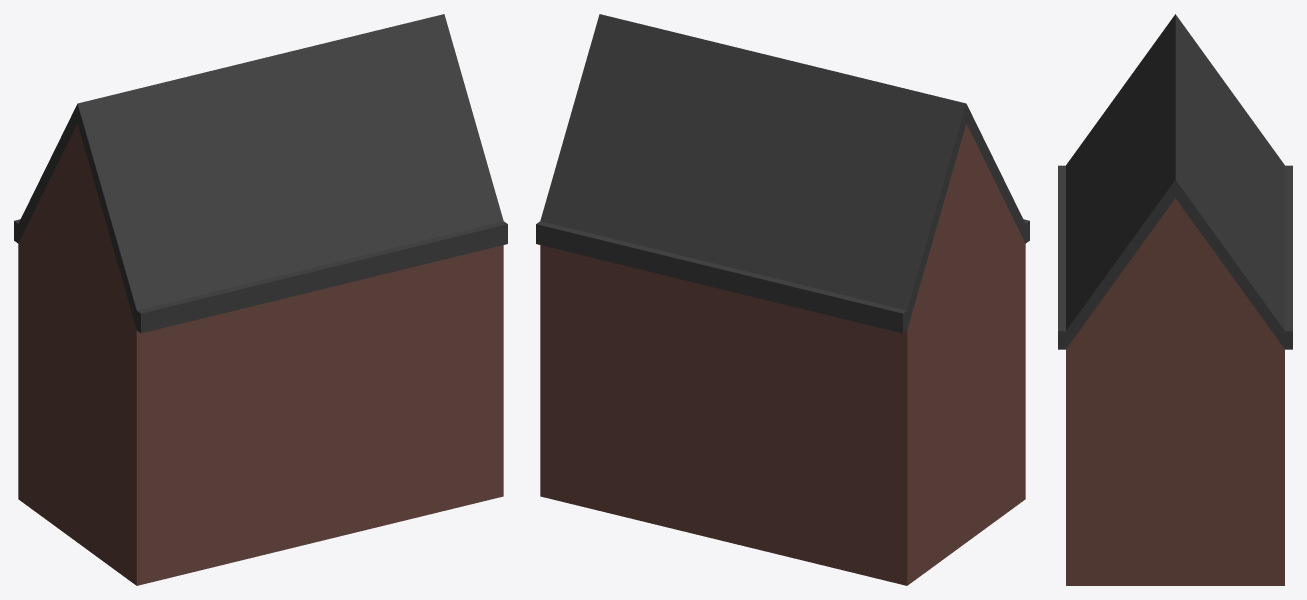
File: hus_med.glb
3 renders of one model, left to right at view 1: azimuth 30°, elevation 25°; view 2: azimuth 150°, elevation 25°; view 3: azimuth 270°, elevation 25°, orthographic. The views are drawn at different scales.
Visible parts, largest first — view 1: Hus_med_lofi; view 2: Hus_med_lofi; view 3: Hus_med_lofi.
Part boxes in pixels (box(x1,y1,x2,y2)): Hus_med_lofi: box(14, 14, 507, 585); Hus_med_lofi: box(536, 14, 1029, 585); Hus_med_lofi: box(1058, 14, 1292, 585).
Bounding box in the file's own units: 5.44 × 6.23 × 3.26.
